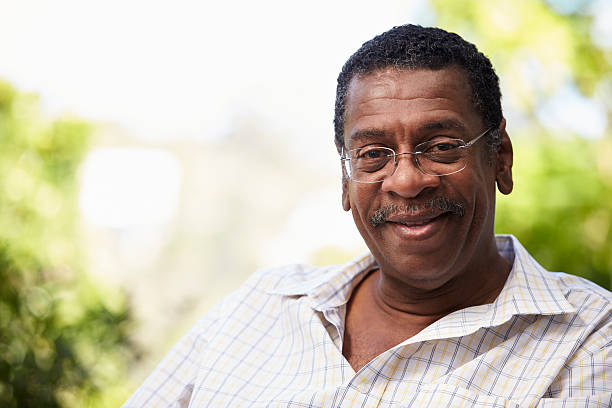face: (345, 89, 492, 285)
